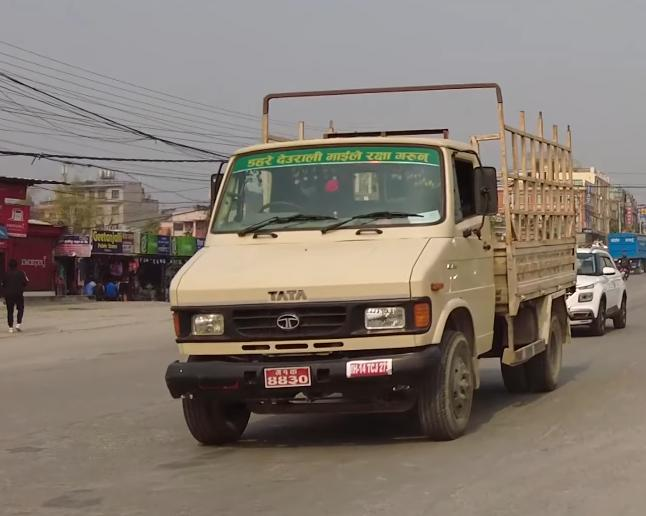car: (561, 230, 631, 338)
mini_truck: (146, 71, 580, 448)
